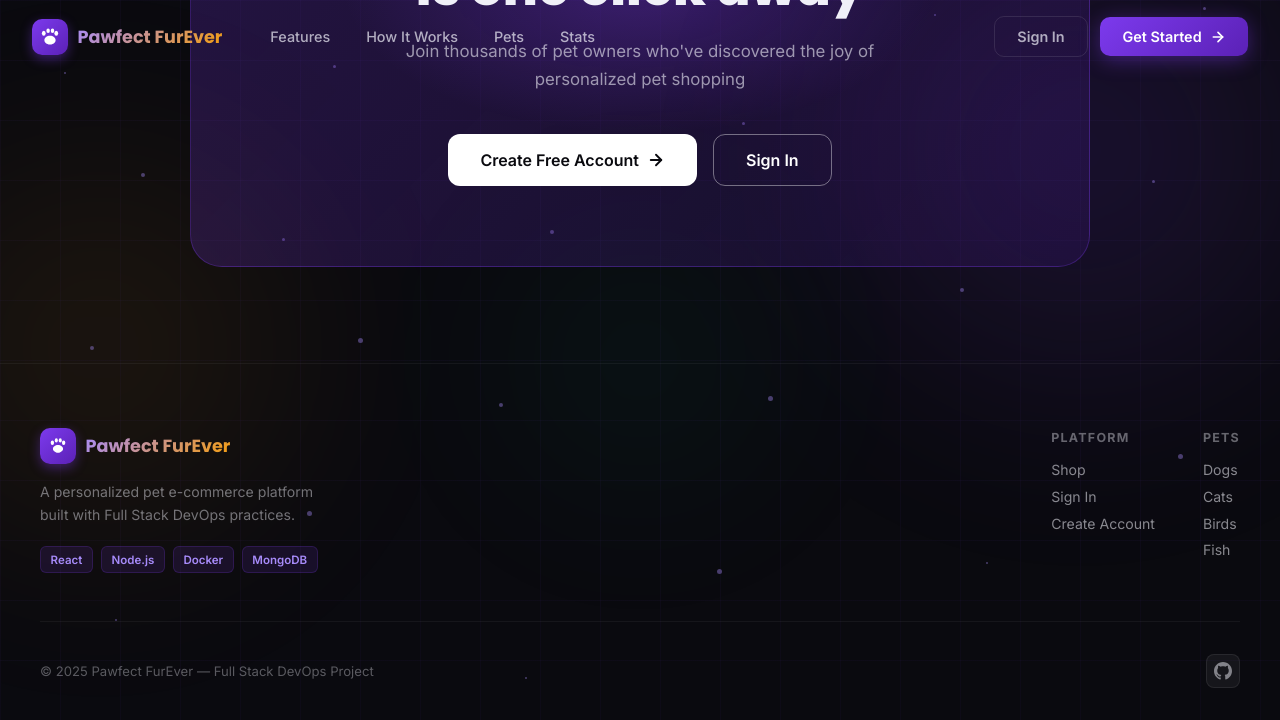
Scenario: App Component › can switch to register tab
(page scrolled)
Click the button "Create Account": coordinates (1103, 523) [1051,515,1155,532]
(page scrolled)
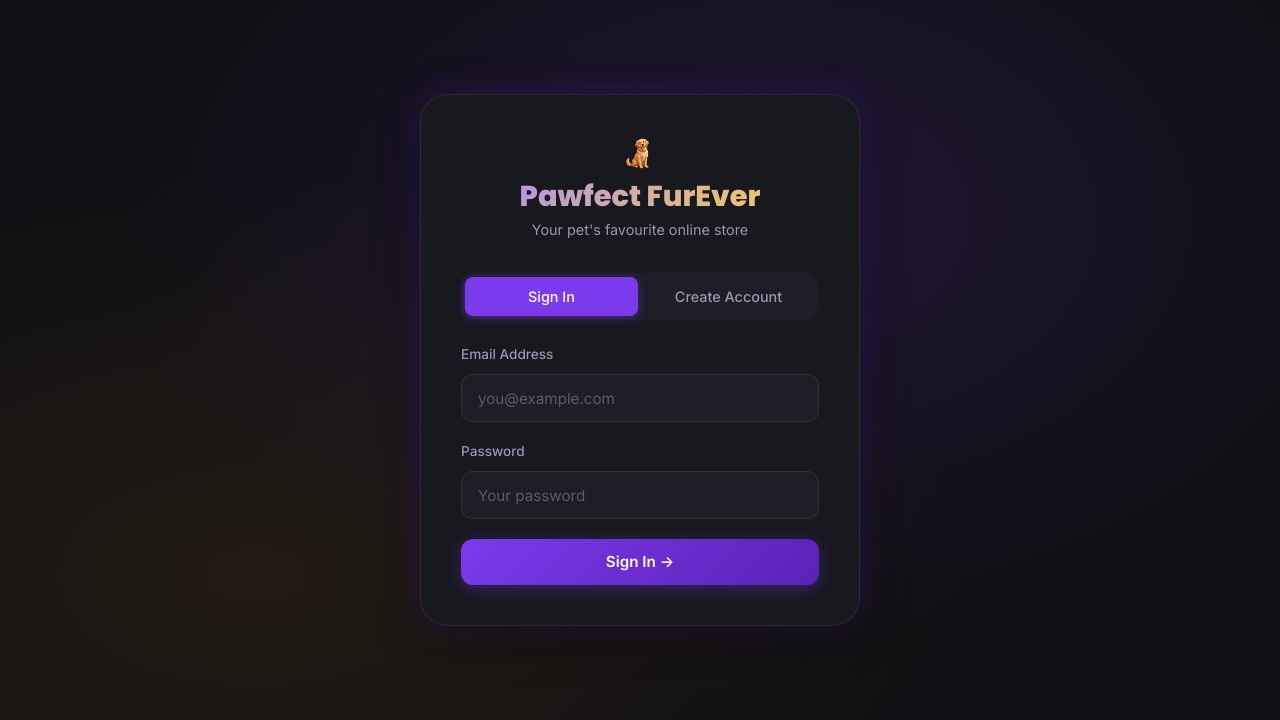
Click the button "Create Account": coordinates (728, 297) [642,277,815,316]
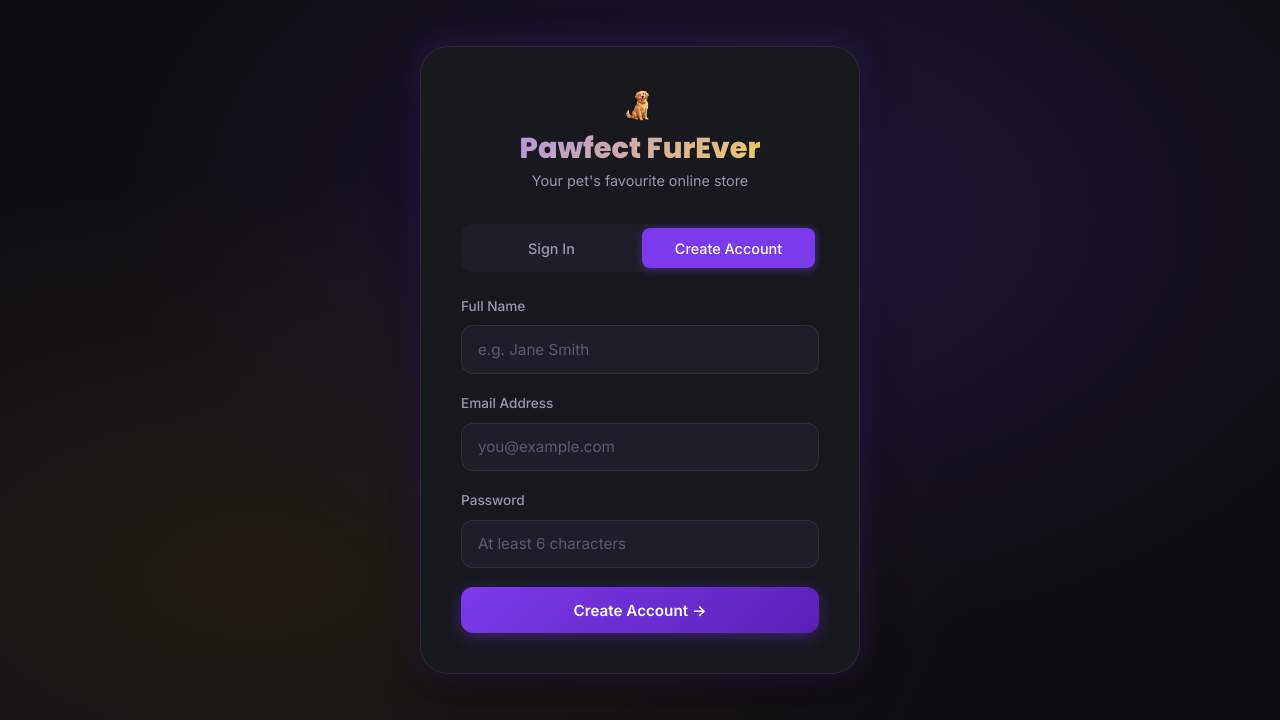
Expected: the field with placeholder "e.g. Jane Smith" is shown, [461,326,819,374]
